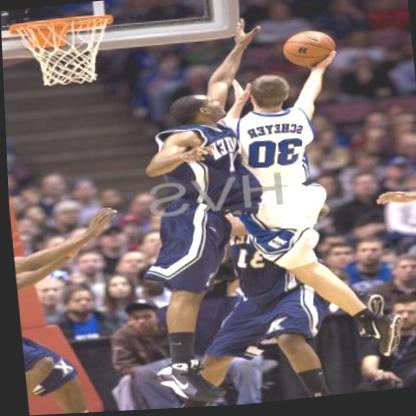basketball: (280, 32, 333, 77)
